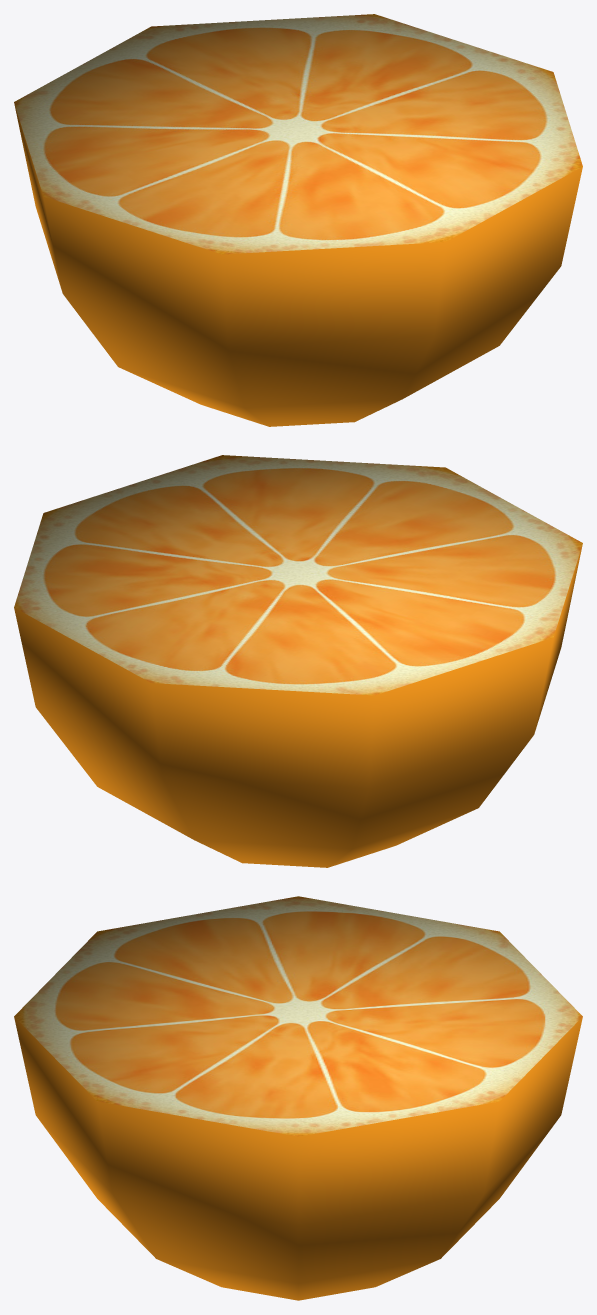
Rendered from halforange2.fbx.
3 renders of one model, top to bottom at view 1: azimuth 30°, elevation 25°; view 2: azimuth 150°, elevation 25°; view 3: azimuth 270°, elevation 25°, orthographic. The views are drawn at different scales.
Parts seen in each view (by area): view 1: Sphere; view 2: Sphere; view 3: Sphere.
Part boxes in pixels (x1,y1,x2,y2): Sphere: (14,14,582,426); Sphere: (14,455,582,867); Sphere: (14,896,582,1300).
Size of the model in its own units: 2 by 1.01 by 2.
